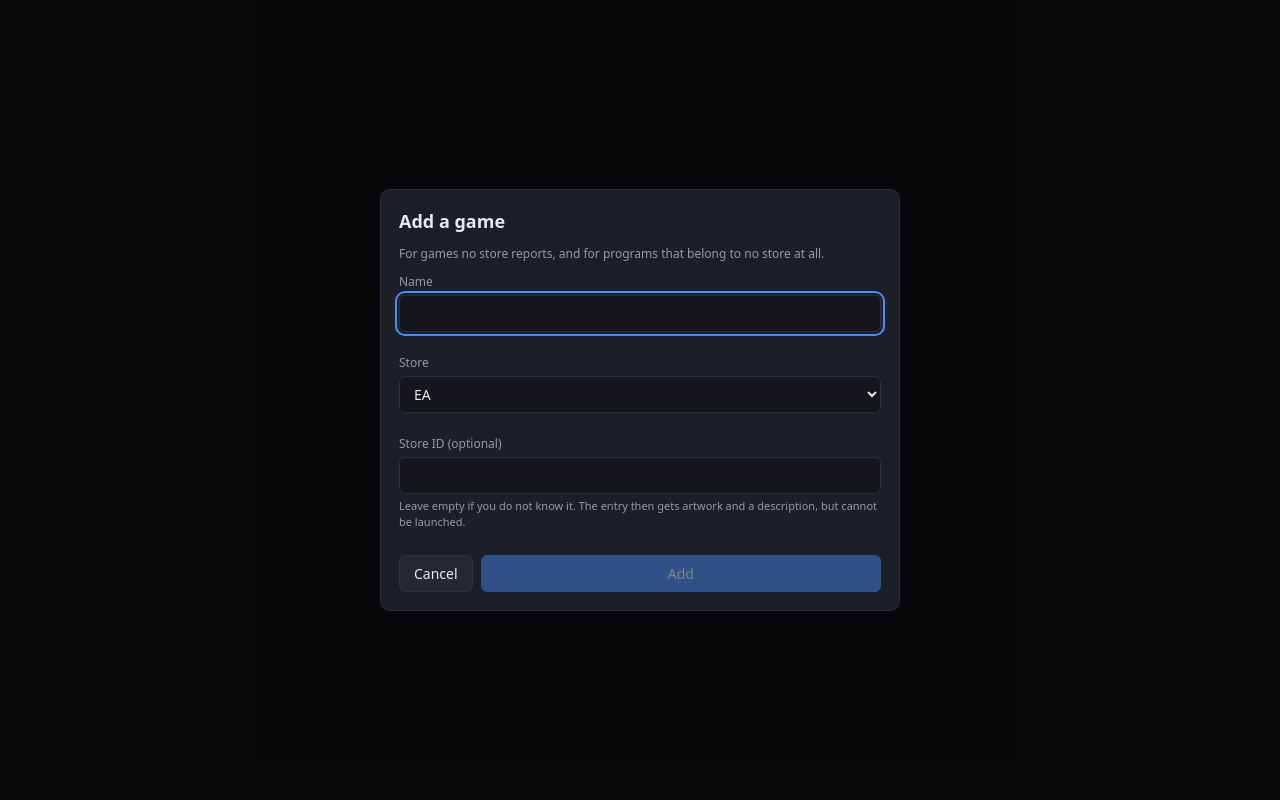
Scenario: AddGameDialog › shows the reason a rejected entry was rejected
Type "TF2" into the field labelled "Name" at (640, 314), box [399,295,881,332]
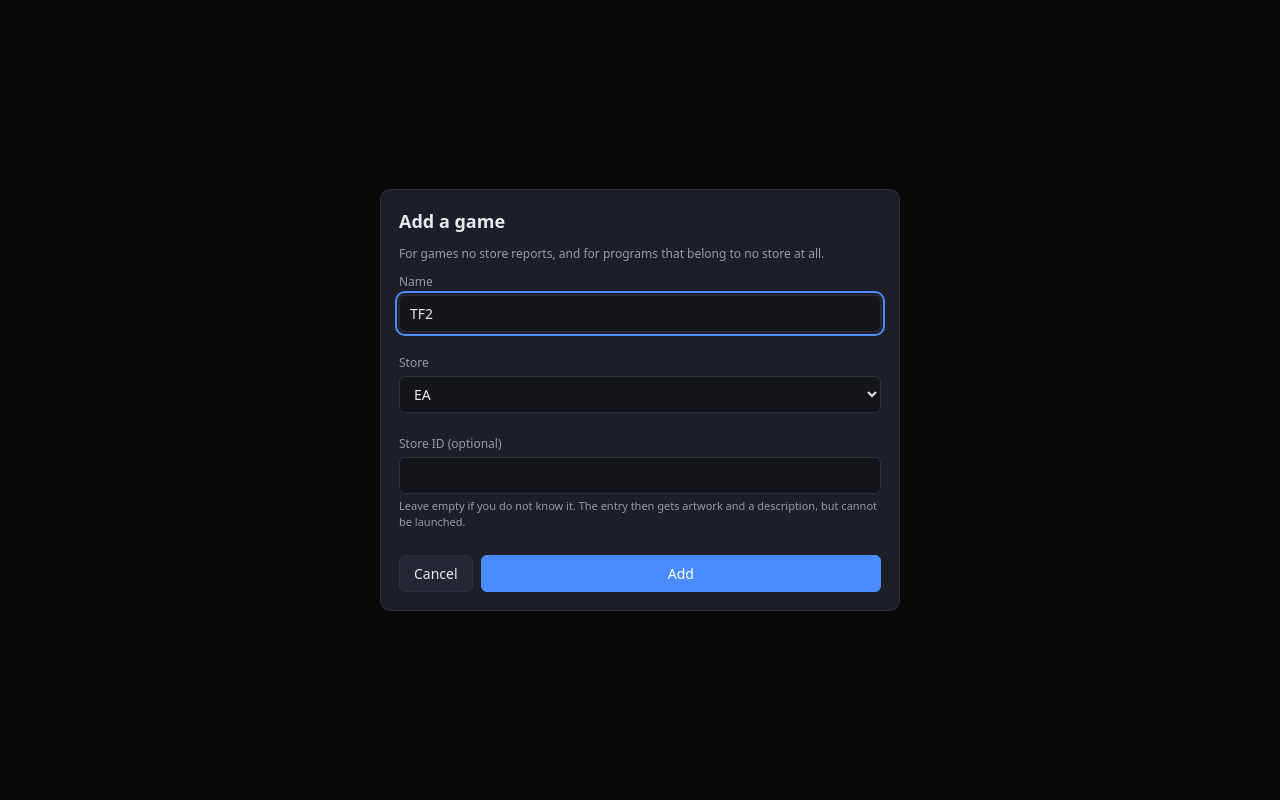
Click the button "Add" at (681, 573), box [481,555,881,592]
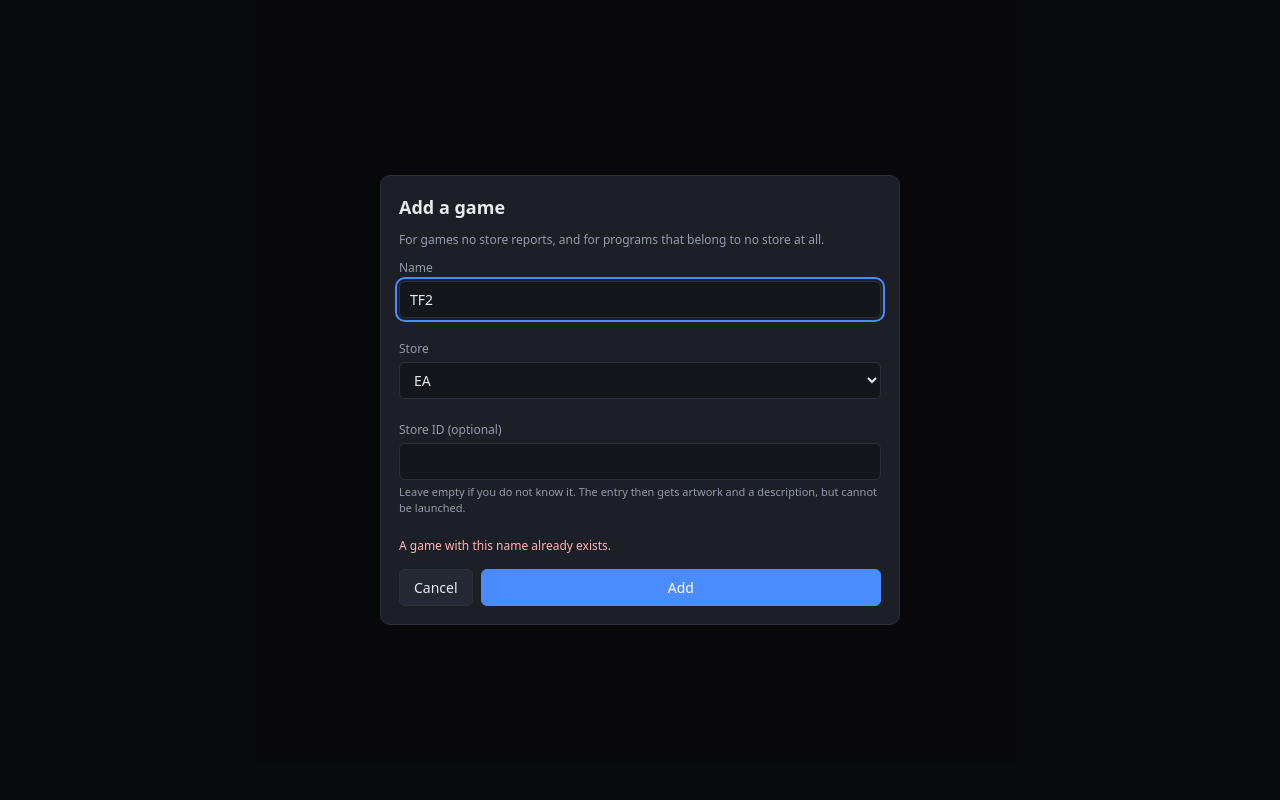
Check: the text "A game with this name already exists." is shown, box [399,537,611,554]
